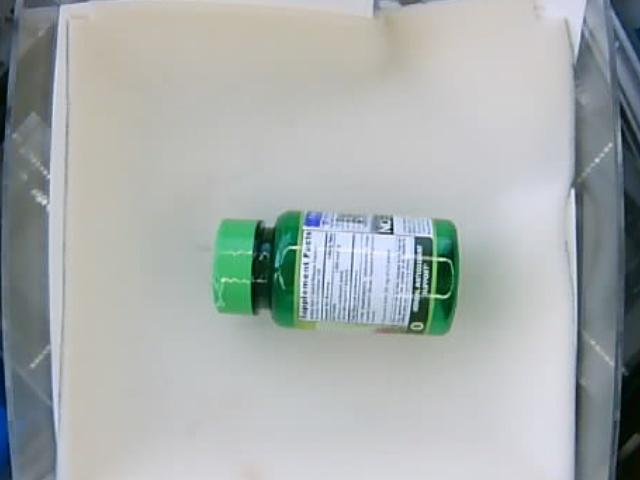Bottle: (213, 209, 456, 335)
